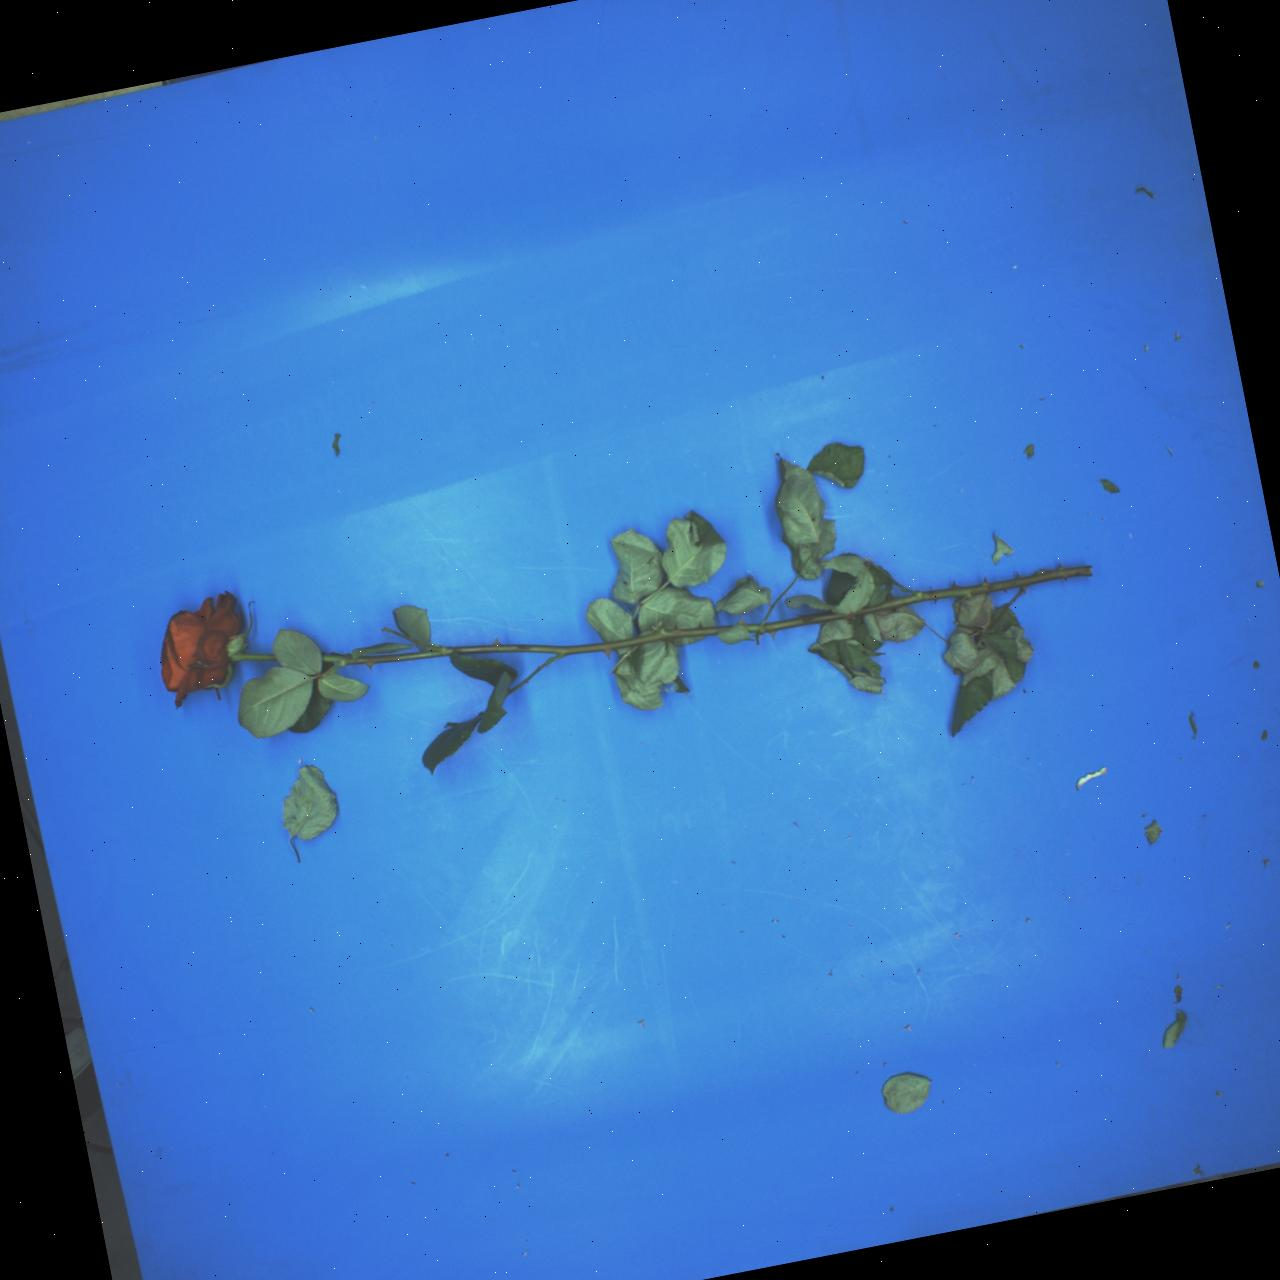Stem: (742, 564, 1094, 636), (455, 610, 733, 672), (322, 648, 454, 665), (231, 652, 278, 662)
flower: (157, 585, 250, 713)
